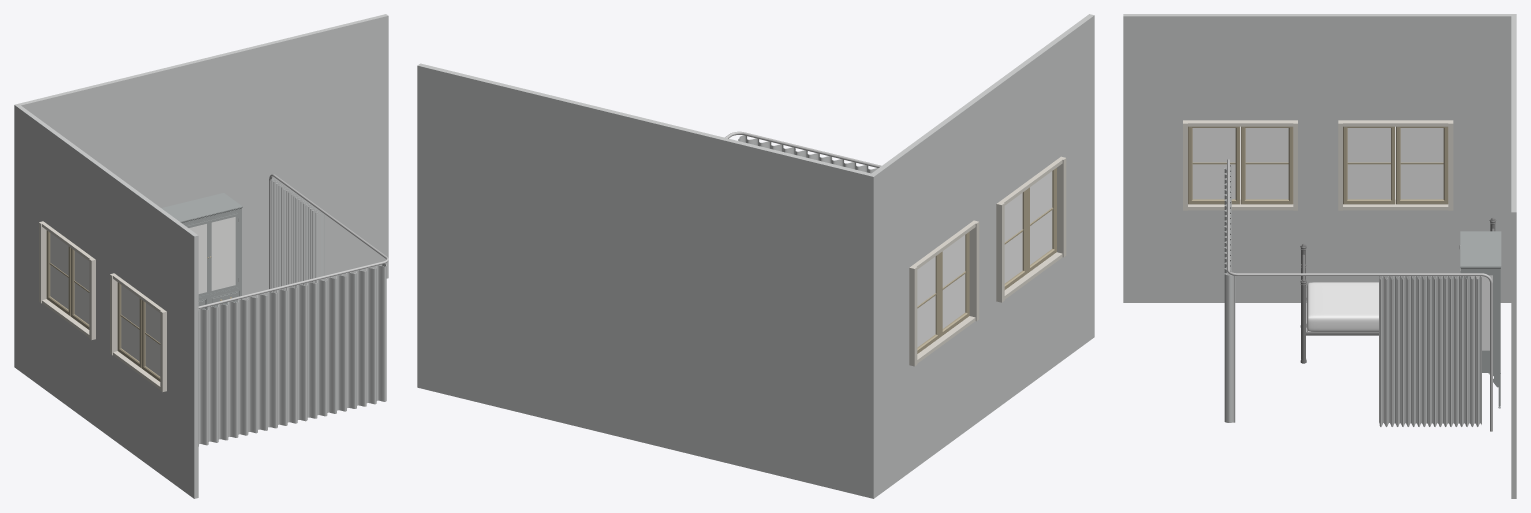
Rendered from 942_corner_of_the_hospital_room_cartain_open.glb.
3 renders of one model, left to right at view 1: azimuth 30°, elevation 25°; view 2: azimuth 150°, elevation 25°; view 3: azimuth 270°, elevation 25°, orthographic. The views are drawn at different scales.
Parts seen in each view (by area): view 1: kabe1, kabe2, cartain1, cartain2, door_right, cabint, door_left, cartainrod2, cartainrod1; view 2: kabe1, kabe2, cartain1; view 3: kabe2, cartain2, bed, cabint, kabe1, cartain1, cartainrod2.
Boxes of the visible parts, x1,y1,x2,y2 form: kabe1: (14,14,388,368); kabe2: (16,105,198,498); cartain1: (198,263,386,446); cartain2: (271,179,324,292); door_right: (209,213,238,293); cabint: (161,193,242,309); door_left: (186,220,209,296); cartainrod2: (269,174,388,291); cartainrod1: (198,259,388,308); kabe1: (417,63,876,498); kabe2: (872,14,1094,496); cartain1: (738,135,878,173); kabe2: (1123,14,1511,302); cartain2: (1379,276,1481,426); bed: (1300,217,1496,363); cabint: (1459,231,1501,408); kabe1: (1511,14,1516,498); cartain1: (1224,165,1235,422); cartainrod2: (1230,272,1492,431).
Size of the model in its own units: 4.95 by 3.3 by 4.1.
